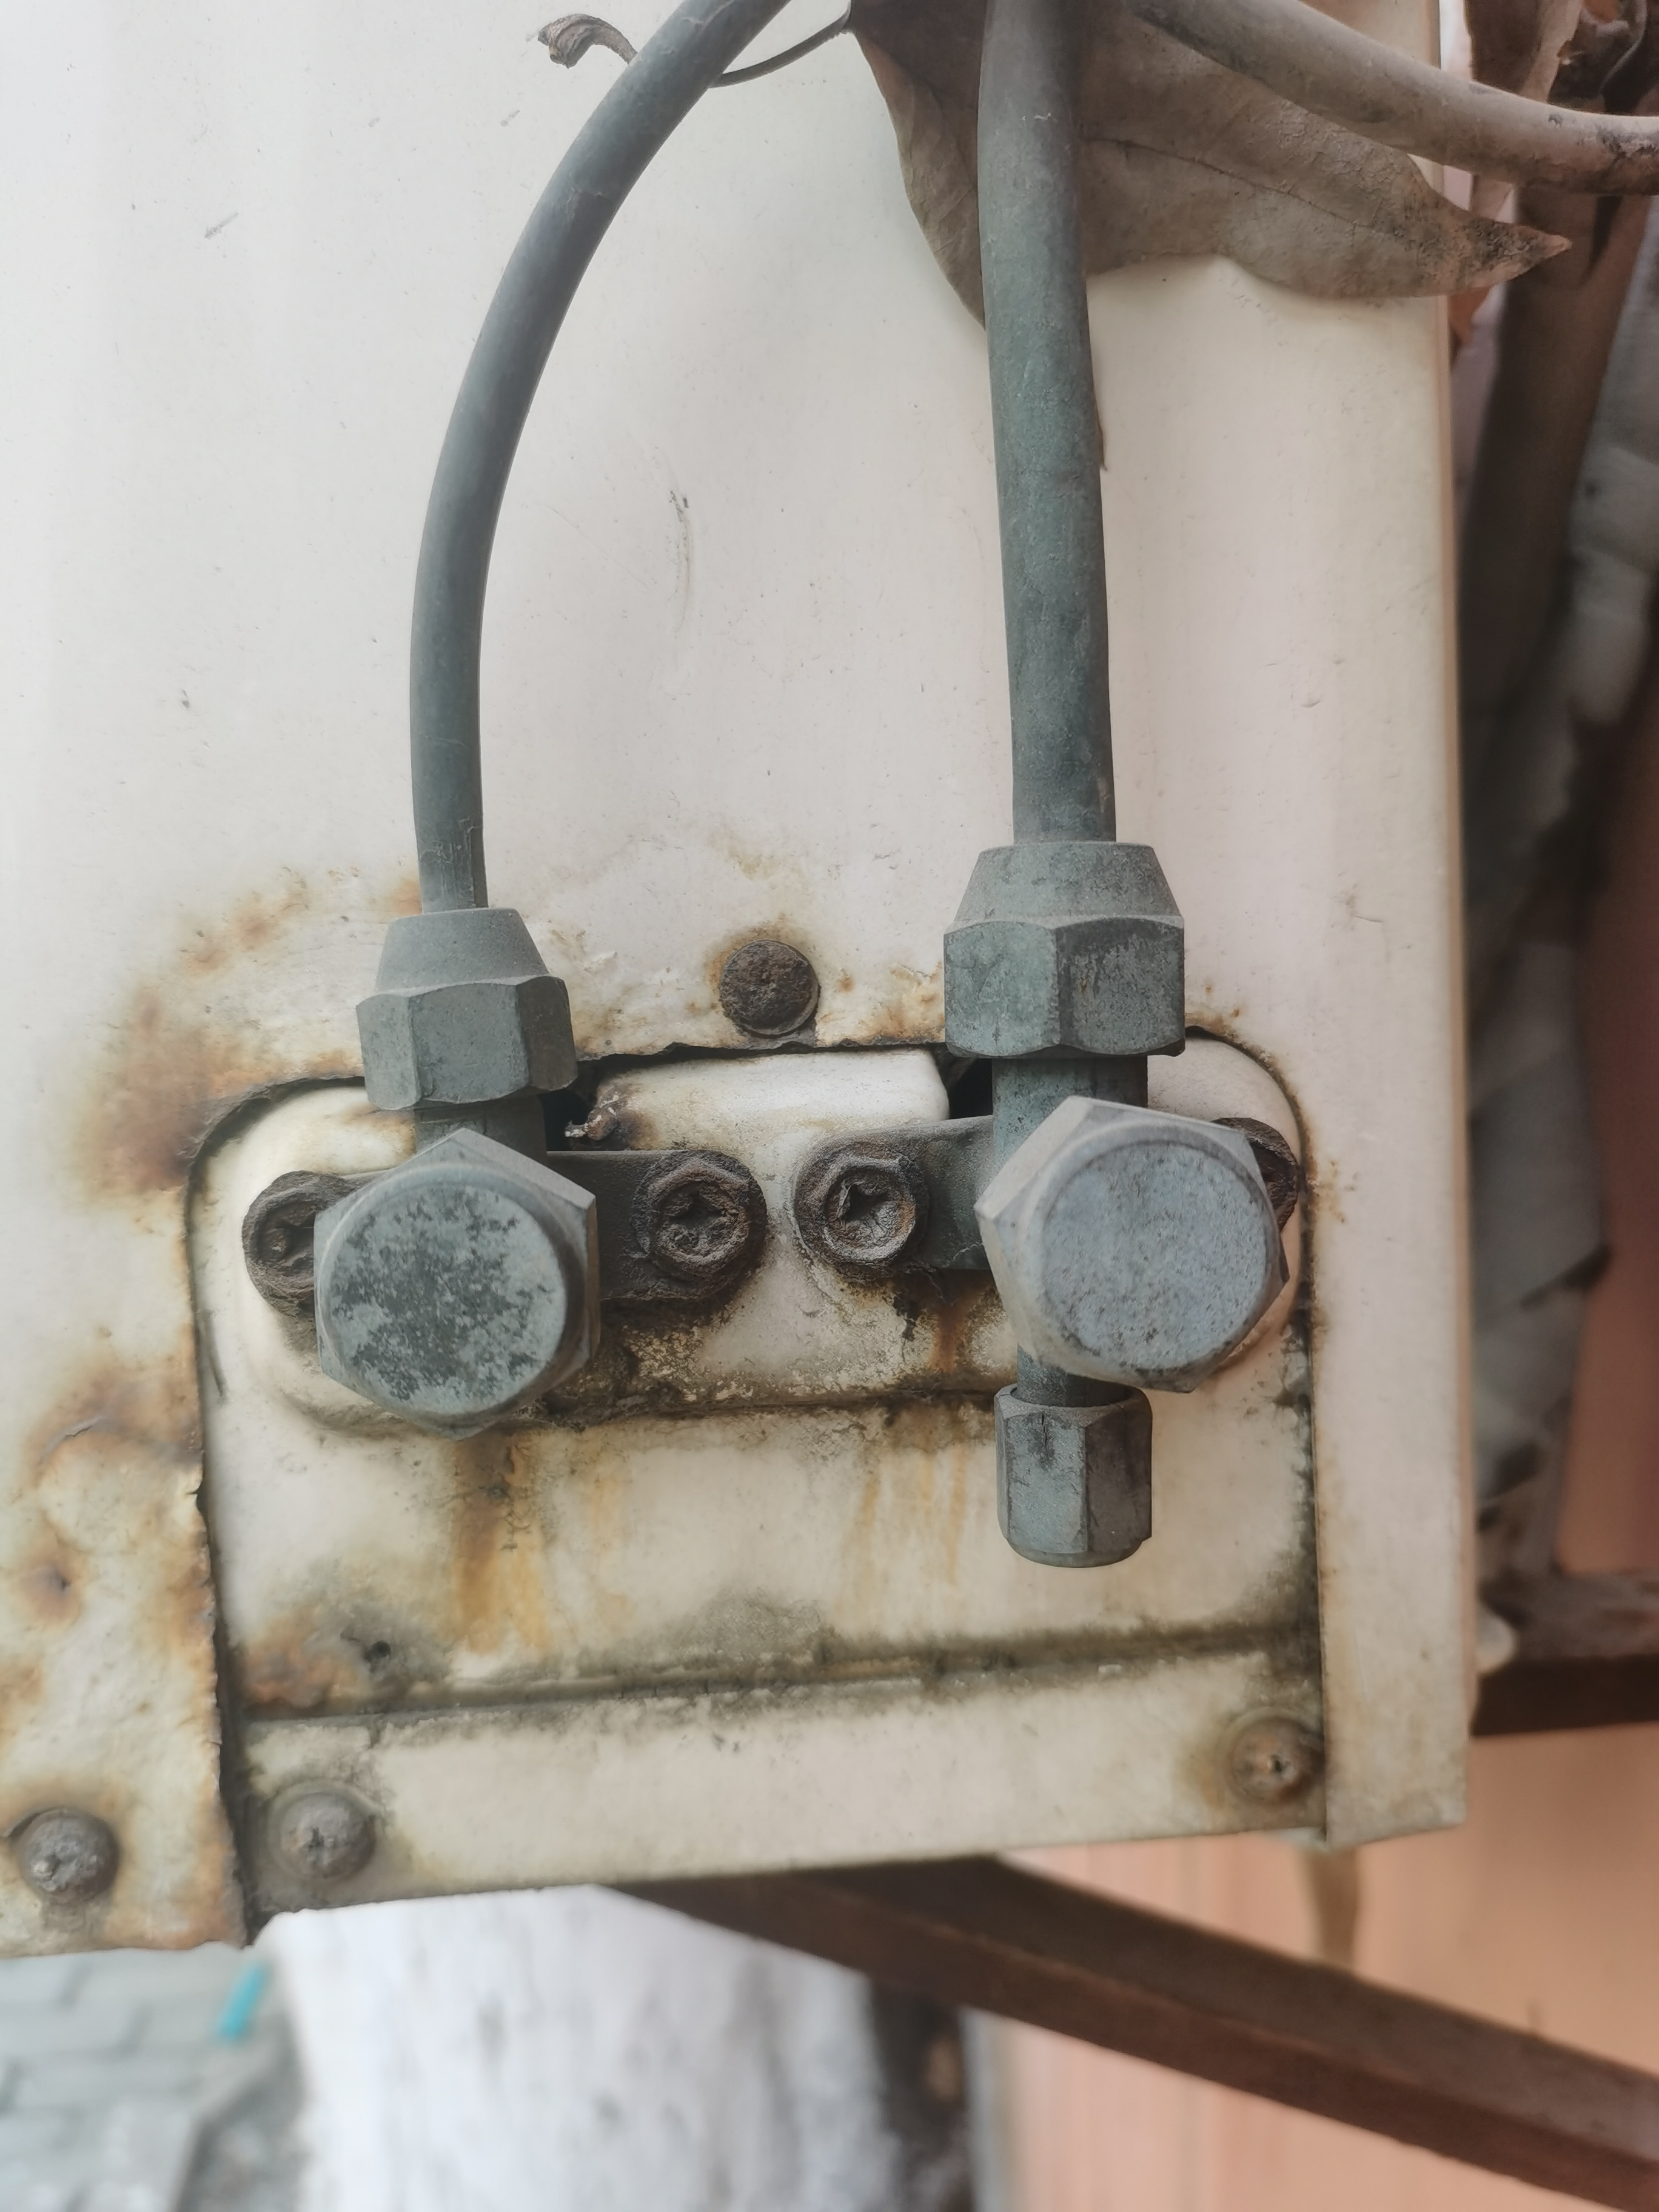bolt_a: (964, 1085, 1303, 1407), (300, 1127, 617, 1453)
